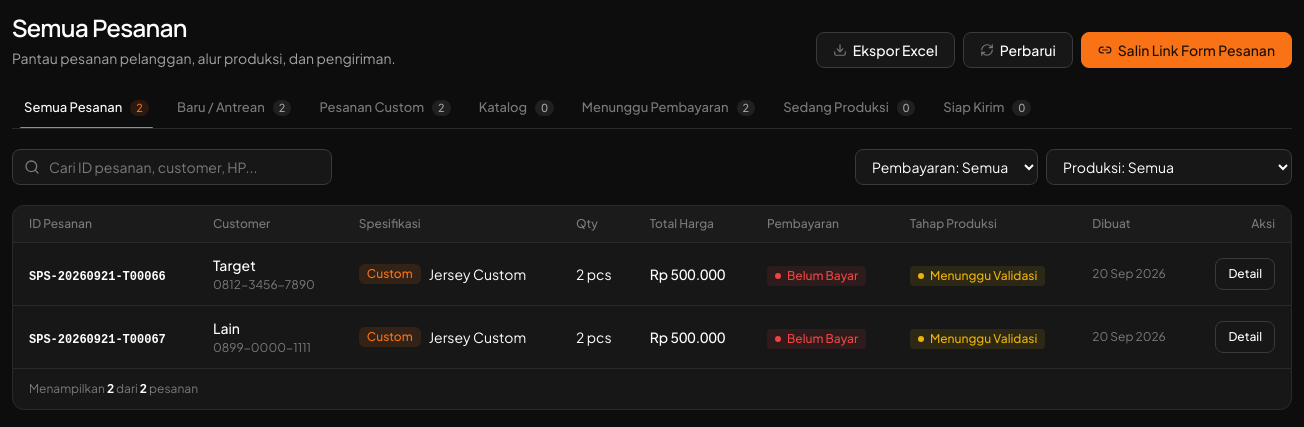
Test: OrdersView › finds a customer by phone digits regardless of formatting
Type "0812 3456" into the search field named "cari pesanan" at (172, 167), box [12,149,332,185]
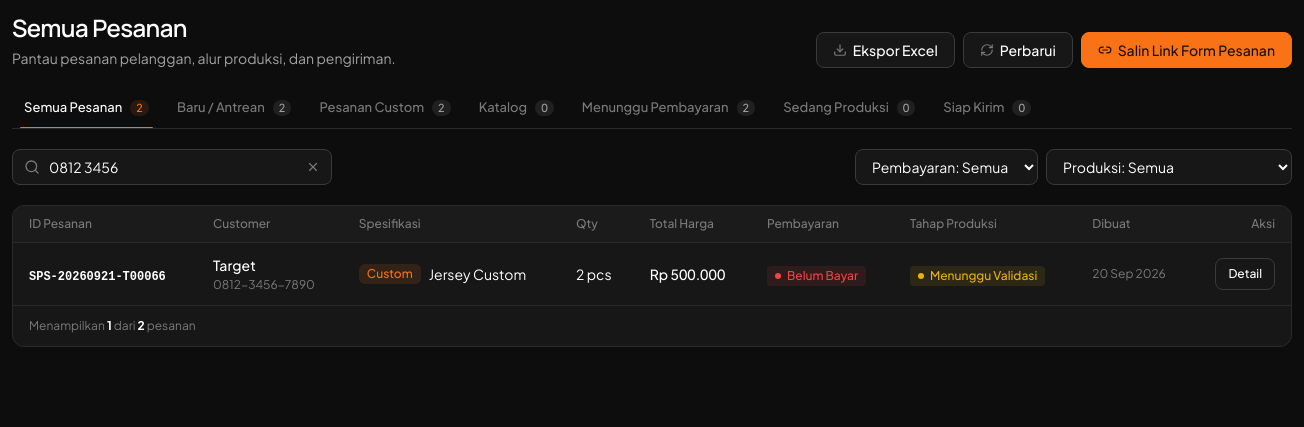
Expected: the text "Target" is shown, [213,256,256,274]
Now the text "Lain" is gone
